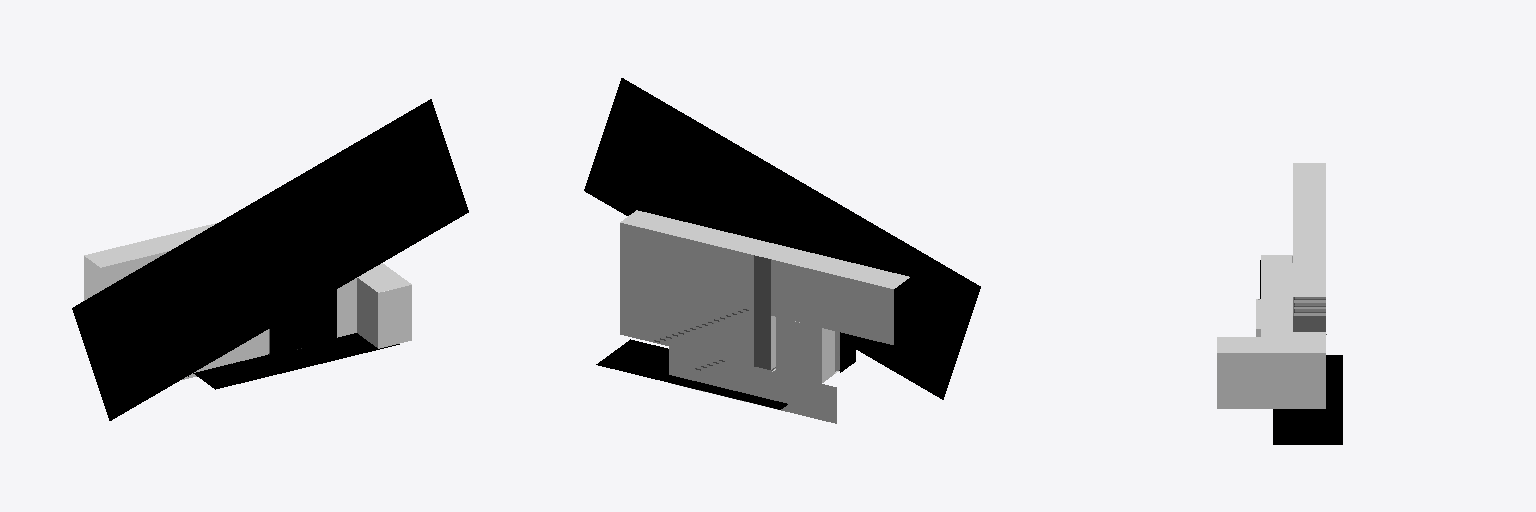
File: staircase.obj
3 views of the same model, side by side, from view 1: azimuth 30°, elevation 25°; view 2: azimuth 150°, elevation 25°; view 3: azimuth 270°, elevation 25° (orthographic).
Visible parts, largest first — view 1: default; view 2: default; view 3: default.
Boxes of the visible parts, box(x1,y1,x2,y2) form: default: box(72, 99, 468, 420); default: box(584, 78, 980, 423); default: box(1217, 163, 1342, 444).
Size of the model in its own units: 41.88 by 25.91 by 11.45.